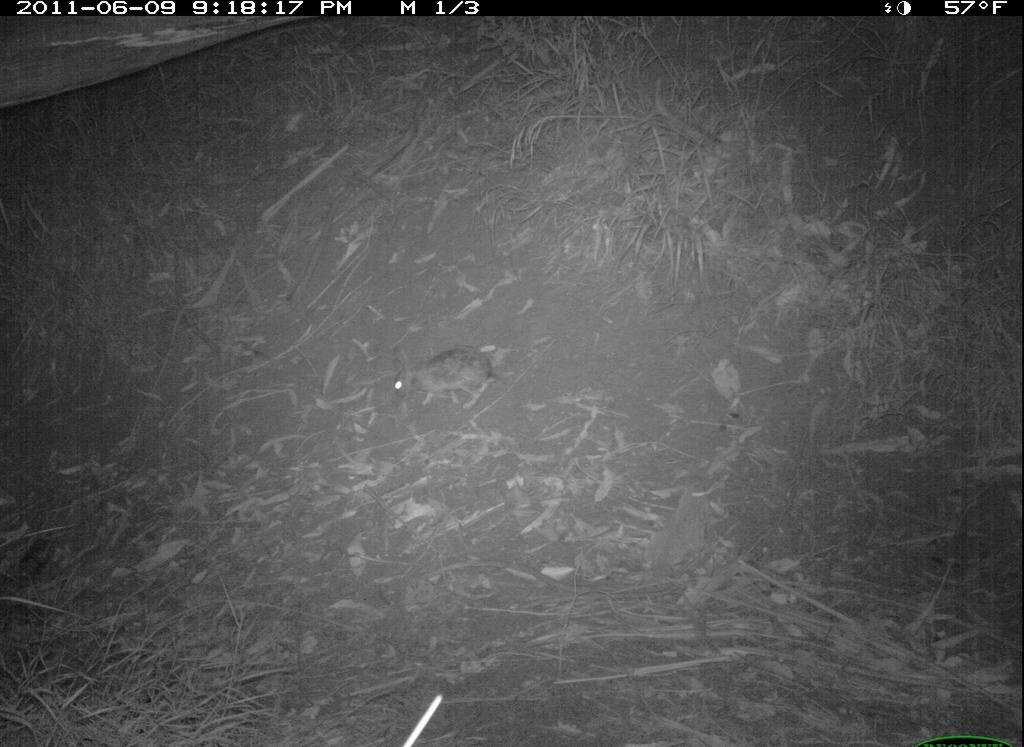rabbit: (374, 327, 538, 415)
